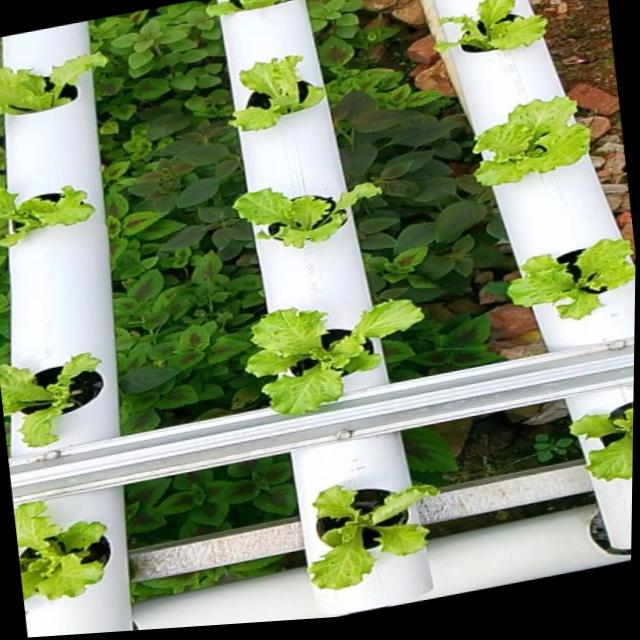Baby: (253, 298, 430, 411), (315, 480, 445, 586), (15, 498, 119, 618), (479, 95, 596, 185), (0, 351, 113, 444), (512, 236, 636, 317), (240, 181, 387, 247), (0, 52, 114, 119), (237, 55, 333, 131), (0, 185, 104, 247), (441, 0, 553, 52), (576, 401, 633, 478)
